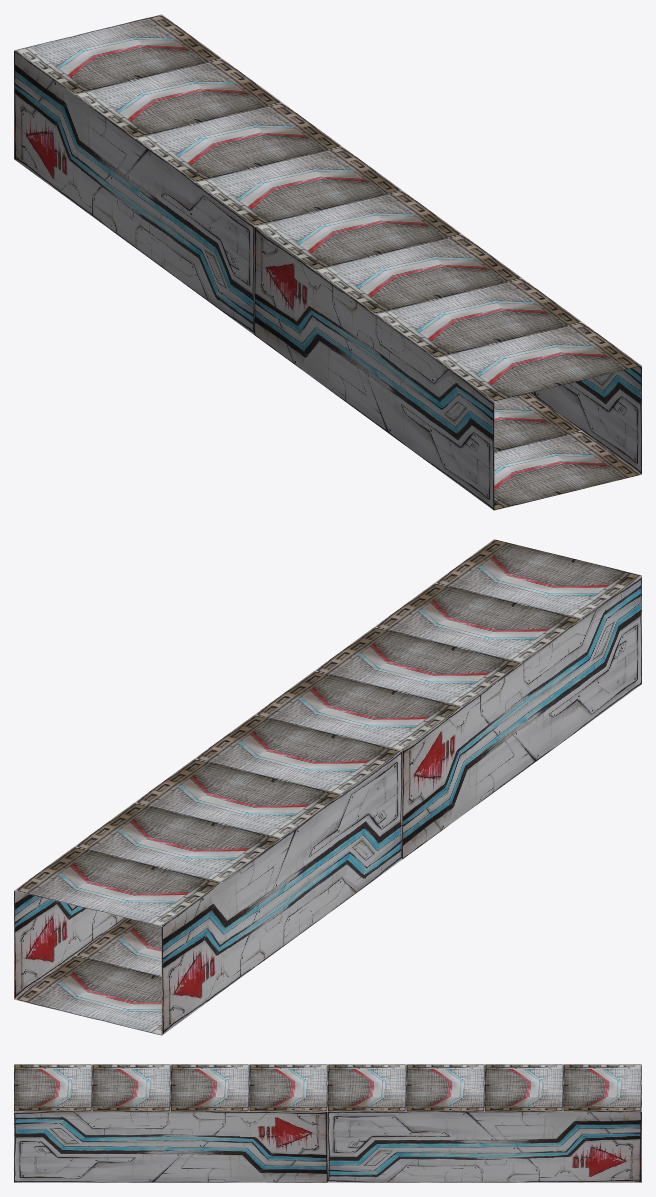
The model's file is LAB_S_3_PH.fbx.
3 renders of one model, top to bottom at view 1: azimuth 30°, elevation 25°; view 2: azimuth 150°, elevation 25°; view 3: azimuth 270°, elevation 25°, orthographic. The views are drawn at different scales.
Parts seen in each view (by area): view 1: Main_Frame2, Main_Frame3; view 2: Main_Frame3, Main_Frame2; view 3: Main_Frame2, Main_Frame3.
Boxes of the visible parts, x1,y1,x2,y2 form: Main_Frame2: (254,190,641,510); Main_Frame3: (14,14,401,334); Main_Frame3: (14,715,401,1035); Main_Frame2: (254,539,641,859); Main_Frame2: (14,1064,327,1182); Main_Frame3: (328,1064,641,1182).
Bounding box in the file's own units: 2730 × 1920 × 15360.
Materials: 2 (2 with a texture image).
